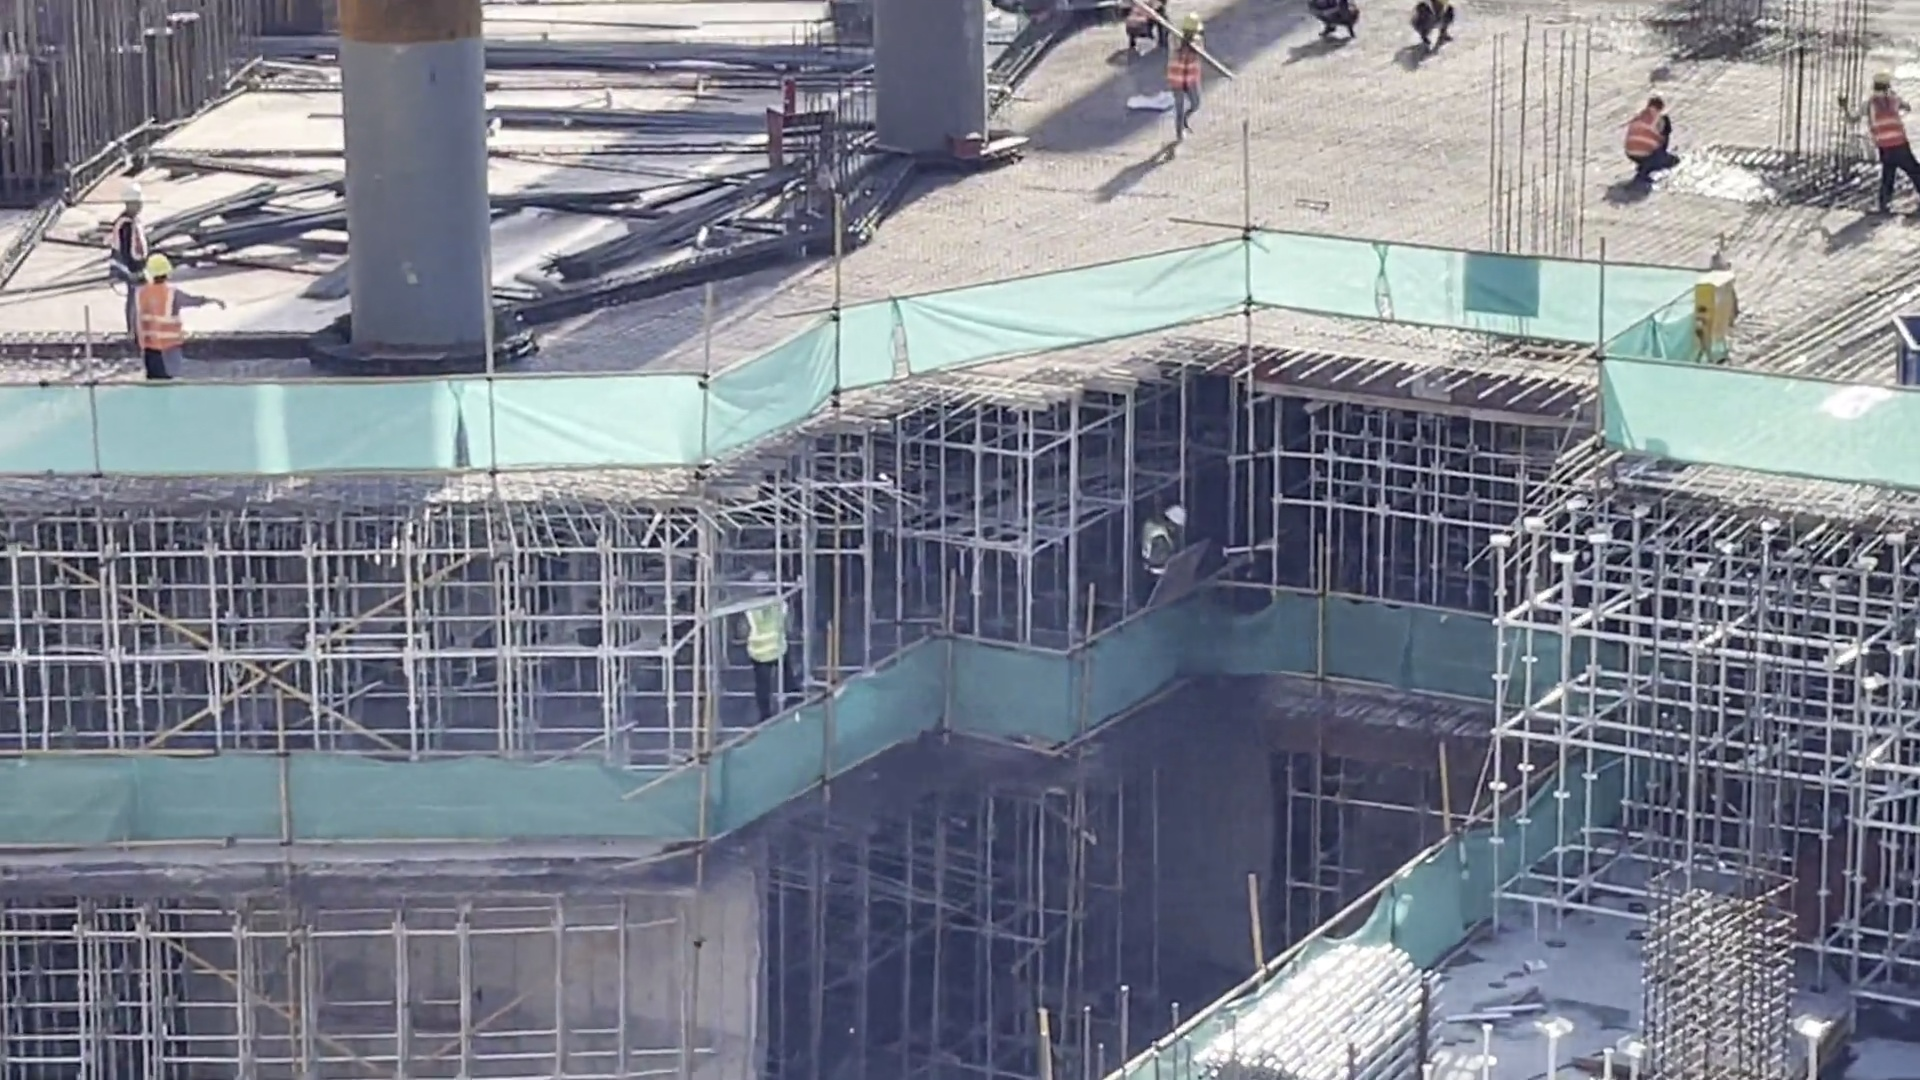helmet: (137, 250, 180, 275), (1162, 504, 1200, 530), (740, 574, 780, 598), (108, 180, 145, 205), (1180, 11, 1204, 38), (1873, 67, 1895, 93)
person: (741, 565, 845, 737), (129, 252, 206, 397), (1136, 501, 1212, 635), (1841, 80, 1920, 197), (1625, 80, 1684, 189), (100, 179, 148, 304), (1173, 9, 1212, 158), (1406, 1, 1470, 53), (1115, 1, 1165, 58), (1308, 1, 1364, 46)
rebar: (567, 180, 790, 269), (480, 28, 830, 81), (487, 103, 772, 137), (152, 185, 276, 241), (475, 175, 635, 214), (218, 212, 345, 260)
scaffold: (1213, 923, 1444, 1080)
vest: (141, 284, 182, 349), (751, 603, 790, 663), (1870, 101, 1910, 155), (1142, 522, 1181, 575), (108, 210, 139, 277), (1632, 110, 1666, 165), (1166, 41, 1204, 89), (1131, 3, 1160, 41)
